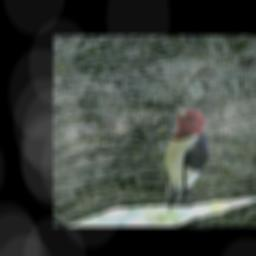Woodpecker: (115, 96, 246, 217)
